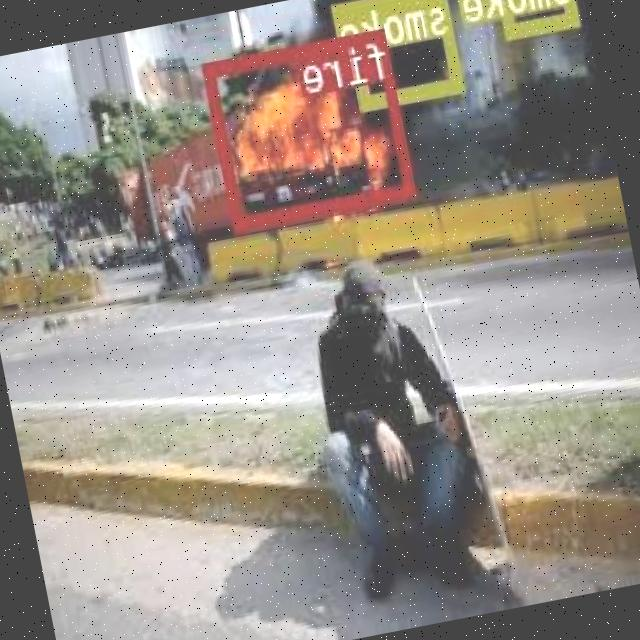fire: (204, 24, 419, 230)
smoke: (343, 0, 467, 109), (495, 0, 582, 37)
